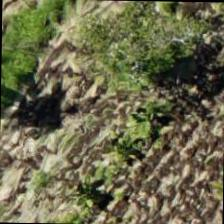Kelapa_Sawit: (11, 92, 104, 184)
